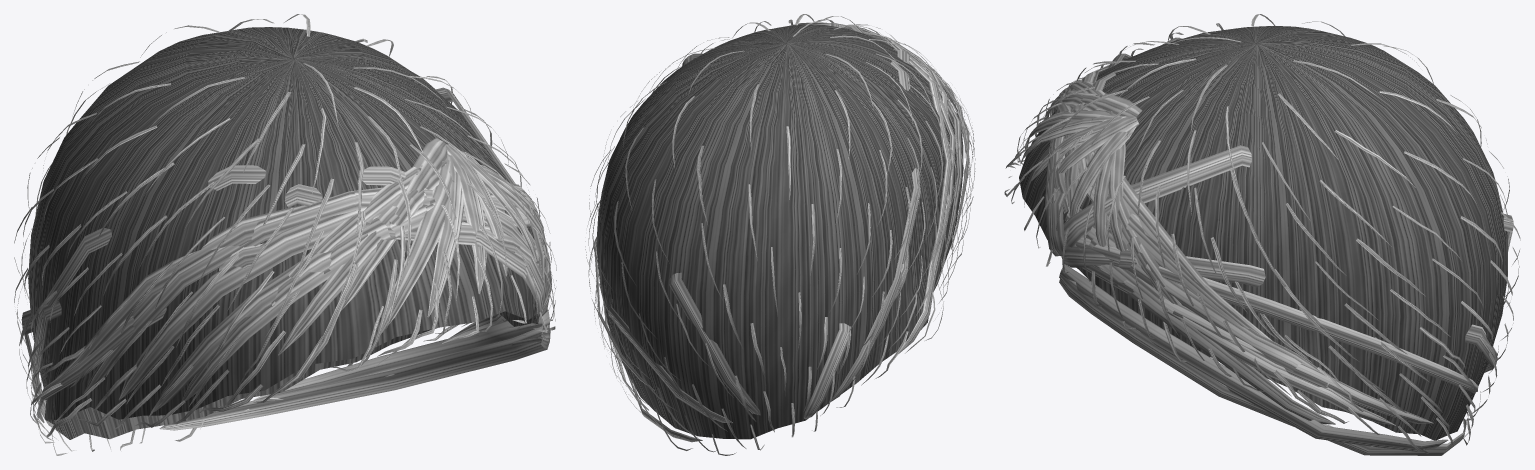
The model's file is unified_f_crop.glb.
3 views of the same model, side by side, from view 1: azimuth 30°, elevation 25°; view 2: azimuth 150°, elevation 25°; view 3: azimuth 270°, elevation 25° (orthographic). The views are drawn at different scales.
Parts seen in each view (by area): view 1: Hair_scalp, Hair_directional_locks, Hair_layered_strands; view 2: Hair_scalp, Hair_layered_strands, Hair_directional_locks; view 3: Hair_scalp, Hair_directional_locks, Hair_layered_strands.
Boxes of the visible parts, x1,y1,x2,y2 form: Hair_scalp: (28, 27, 538, 439); Hair_directional_locks: (21, 87, 551, 433); Hair_layered_strands: (14, 14, 556, 455); Hair_scalp: (596, 24, 963, 439); Hair_layered_strands: (585, 14, 975, 455); Hair_directional_locks: (594, 22, 969, 442); Hair_scalp: (1019, 26, 1507, 440); Hair_directional_locks: (1020, 37, 1513, 455); Hair_layered_strands: (1004, 14, 1520, 453).
Size of the model in its own units: 0.0899 by 0.0903 by 0.1059.
2 materials, 2 textured.
